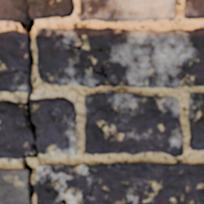brick: (36, 28, 203, 87), (35, 163, 203, 203), (85, 91, 182, 155), (80, 0, 176, 20), (0, 31, 29, 72), (0, 170, 30, 203), (189, 93, 203, 149), (0, 71, 30, 91), (185, 0, 203, 18)
broken_brick: (32, 96, 77, 154), (0, 100, 32, 159), (0, 0, 75, 23)
crack: (0, 2, 40, 201), (45, 179, 67, 203), (78, 182, 96, 203)
